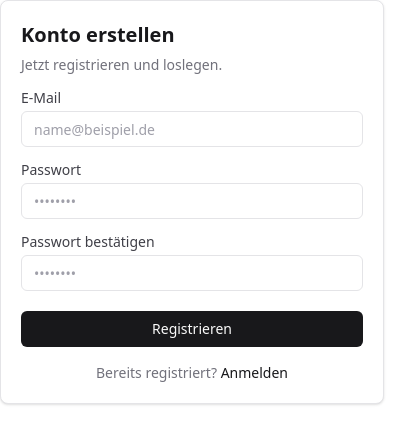
it: RegisterForm (Integration) › zeigt Validierungsfehler bei nicht übereinstimmenden Passwörtern
Type "test@example.com" into the field labelled "E-Mail" at (192, 129), box [21,111,363,147]
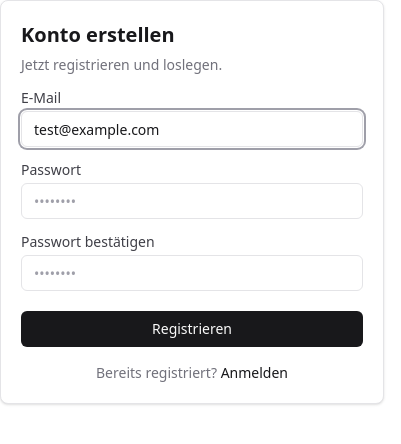
Type "passwort123" into the password field labelled "Passwort" at (192, 201), box [21,183,363,219]
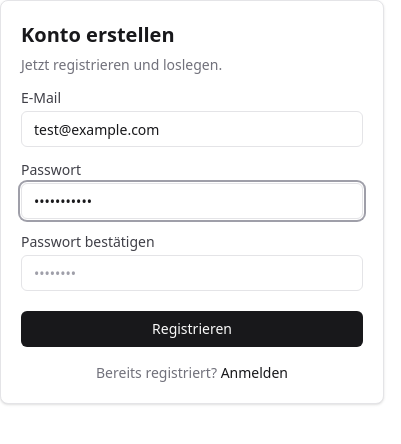
Type "anderes456" into the password field labelled "Passwort bestätigen" at (192, 273), box [21,255,363,291]
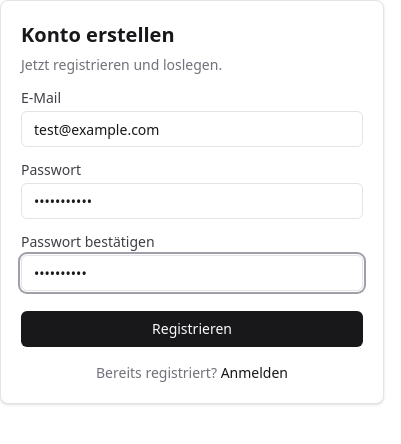
Click the button "Registrieren" at (192, 329), box [21,311,363,347]
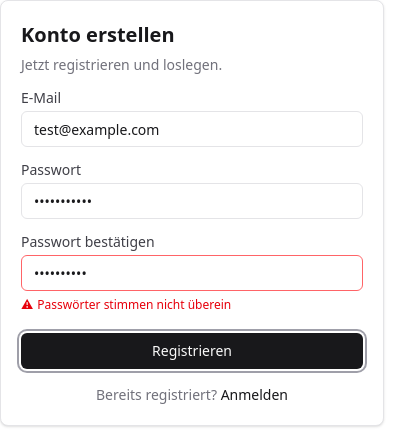
Expected: the text "⚠ Passwörter stimmen nicht überein" is shown, [21,296,231,313]
